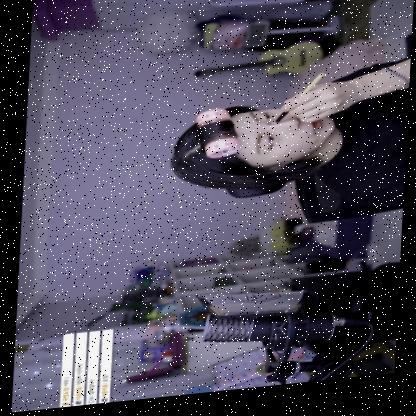streamer: (169, 64, 412, 234)
